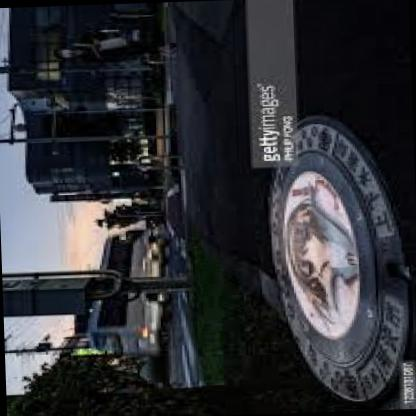manholes: (234, 104, 416, 414)
